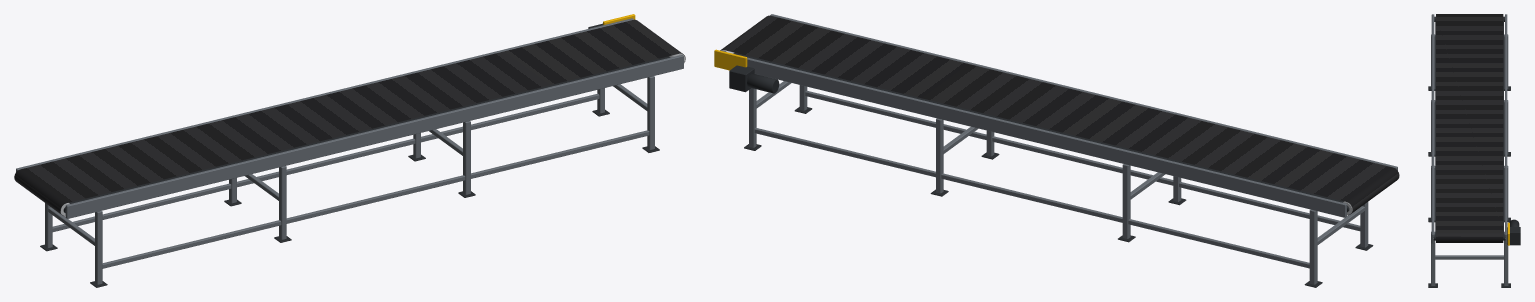
The model's file is belt_conveyor_6m.glb.
The picture shows the model from 3 angles, left to right: view 1: azimuth 30°, elevation 25°; view 2: azimuth 150°, elevation 25°; view 3: azimuth 270°, elevation 25°; orthographic projection. The views are drawn at different scales.
Visible parts, largest first — view 1: Belt, Conveyor_Static; view 2: Belt, Conveyor_Static; view 3: Belt, Conveyor_Static.
Boxes of the visible parts, bbox=[...] form: Belt: bbox=[14, 19, 685, 216]; Conveyor_Static: bbox=[16, 14, 683, 287]; Belt: bbox=[720, 15, 1399, 215]; Conveyor_Static: bbox=[714, 14, 1397, 287]; Belt: bbox=[1436, 14, 1503, 242]; Conveyor_Static: bbox=[1428, 14, 1520, 287].
Bounding box in the file's own units: 6 × 0.815 × 1.05.
Materials: 5 (1 with a texture image).
